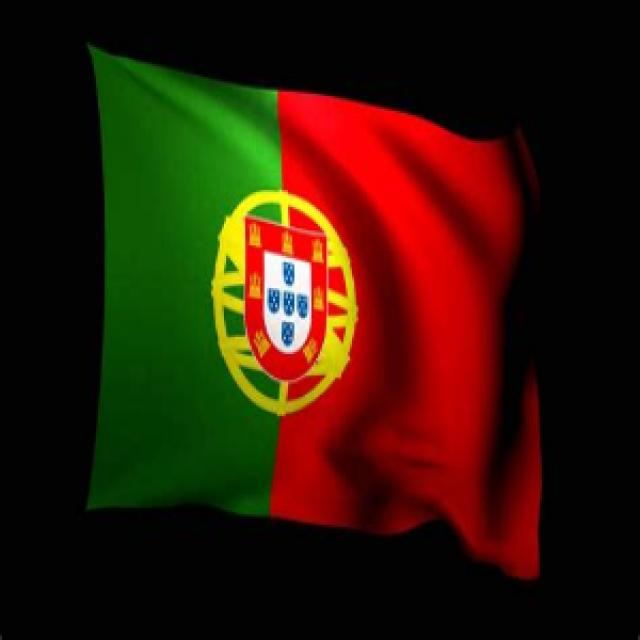portugal: (79, 45, 576, 546)
